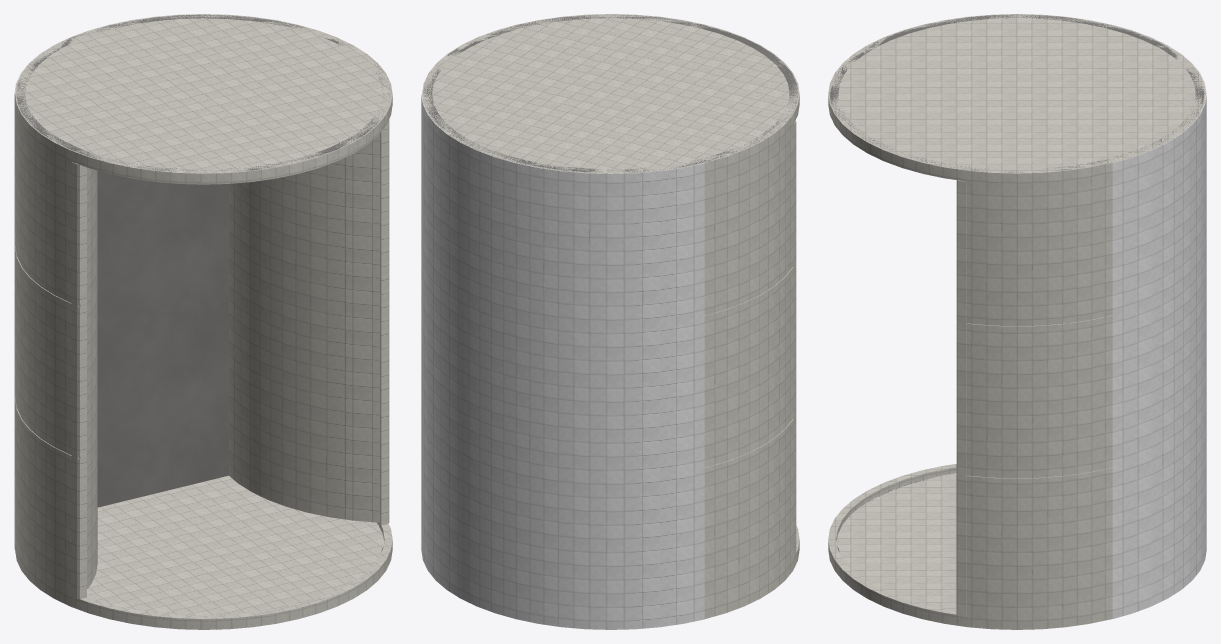
The model's file is ax_aero_13_fs3c_cargo_bay_open.glb.
3 views of the same model, side by side, from view 1: azimuth 30°, elevation 25°; view 2: azimuth 150°, elevation 25°; view 3: azimuth 270°, elevation 25° (orthographic).
Parts seen in each view (by area): view 1: fuselage, door_l, cargo_floor, door_r, end_frames, belly_tiles; view 2: belly_tiles, fuselage, end_frames, door_r; view 3: fuselage, belly_tiles, door_l, end_frames.
Part boxes in pixels (x1=…): fuselage: x1=15, y1=14, x2=392, y2=629; door_l: x1=229, y1=119, x2=389, y2=522; cargo_floor: x1=97, y1=171, x2=228, y2=507; door_r: x1=71, y1=162, x2=97, y2=598; end_frames: x1=16, y1=14, x2=390, y2=552; belly_tiles: x1=14, y1=14, x2=297, y2=549; belly_tiles: x1=421, y1=94, x2=704, y2=629; fuselage: x1=422, y1=14, x2=799, y2=618; end_frames: x1=423, y1=15, x2=798, y2=172; door_r: x1=792, y1=121, x2=796, y2=558; fuselage: x1=828, y1=14, x2=1205, y2=629; belly_tiles: x1=1112, y1=25, x2=1206, y2=618; door_l: x1=957, y1=180, x2=966, y2=615; end_frames: x1=829, y1=14, x2=1204, y2=551.
Size of the model in its own units: 3.75 by 5 by 3.76.
4 materials, 3 textured.
